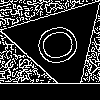O: (33, 18, 91, 69)
